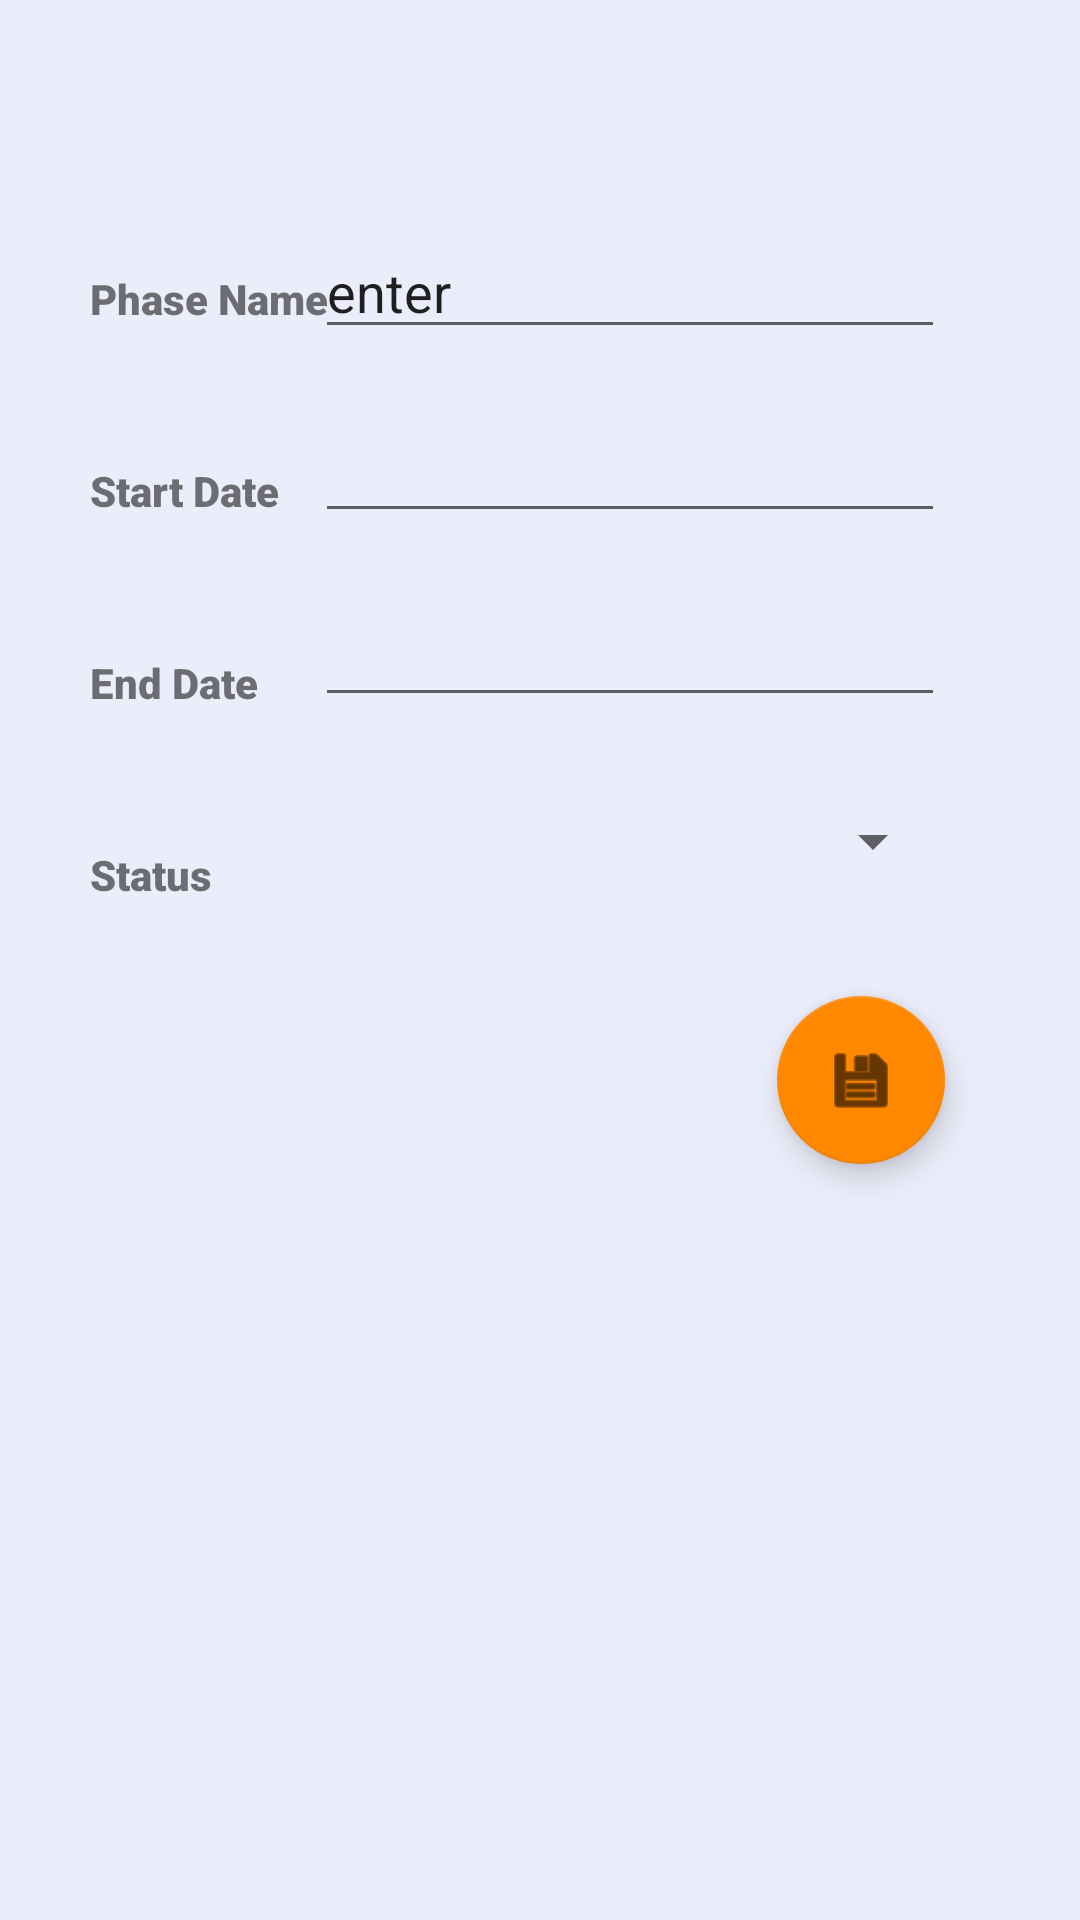

Named icons in this screenshot (1080w x 1920h) and their centers, [x,y]:
save: [861,1080]
